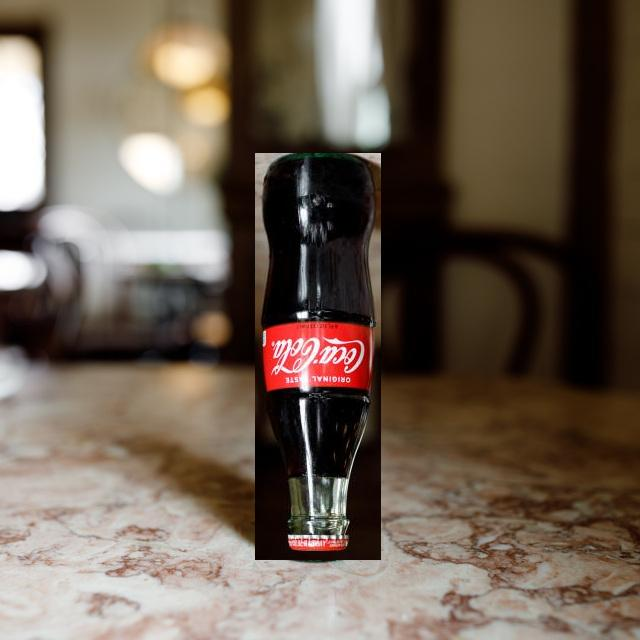coca-cola: (255, 153, 381, 560)
